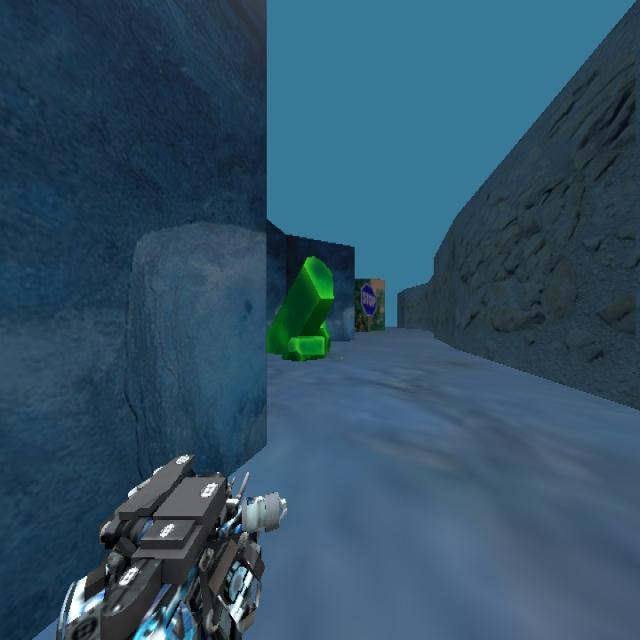Diamon: (266, 254, 334, 362)
Stop_Sign: (359, 281, 377, 316)
